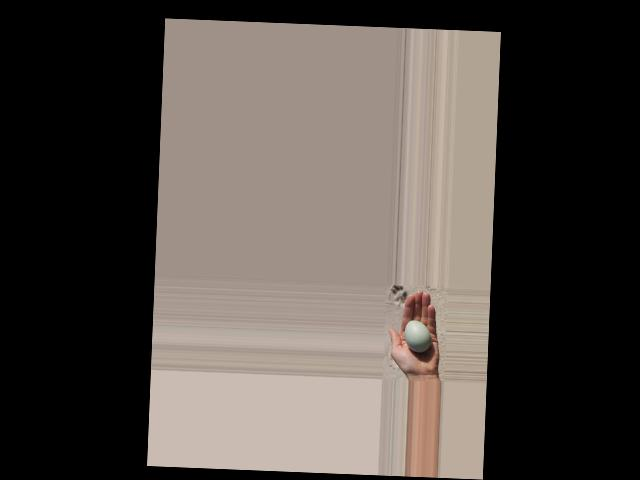egg: (404, 319, 432, 352)
